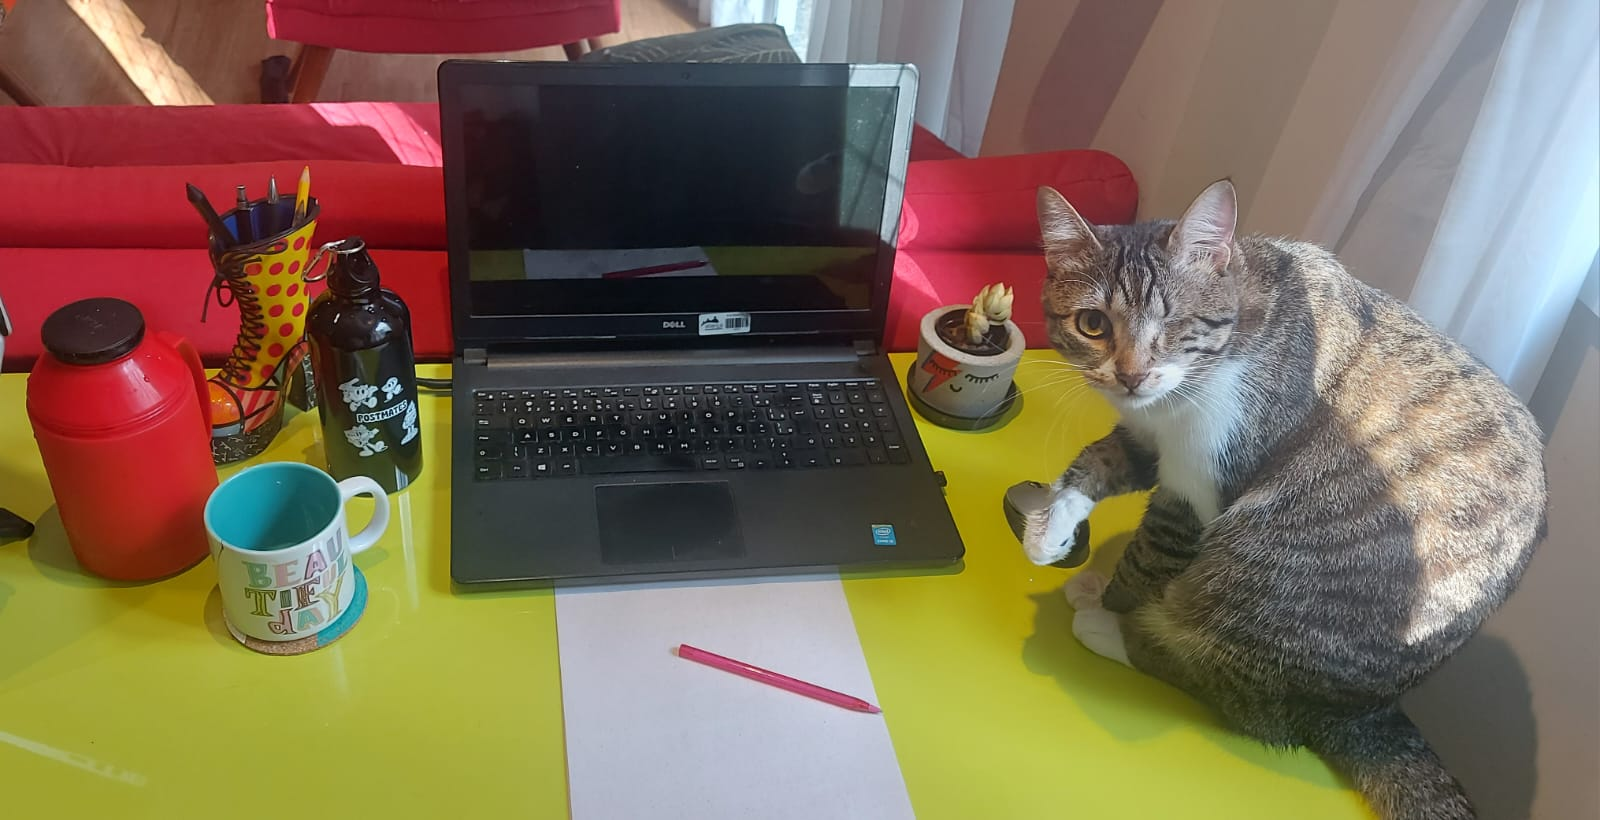Bottle: (303, 241, 428, 495)
Cat: (1024, 183, 1544, 820)
Coffe Bottle: (28, 299, 224, 587)
Cup: (202, 464, 387, 658)
Mouse: (1002, 481, 1093, 571)
Notebook: (435, 56, 968, 592)
Pen: (677, 643, 884, 716)
Plant: (905, 281, 1031, 430)
